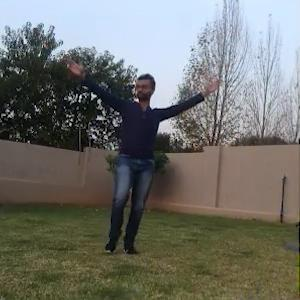takeoff: (55, 43, 222, 266)
